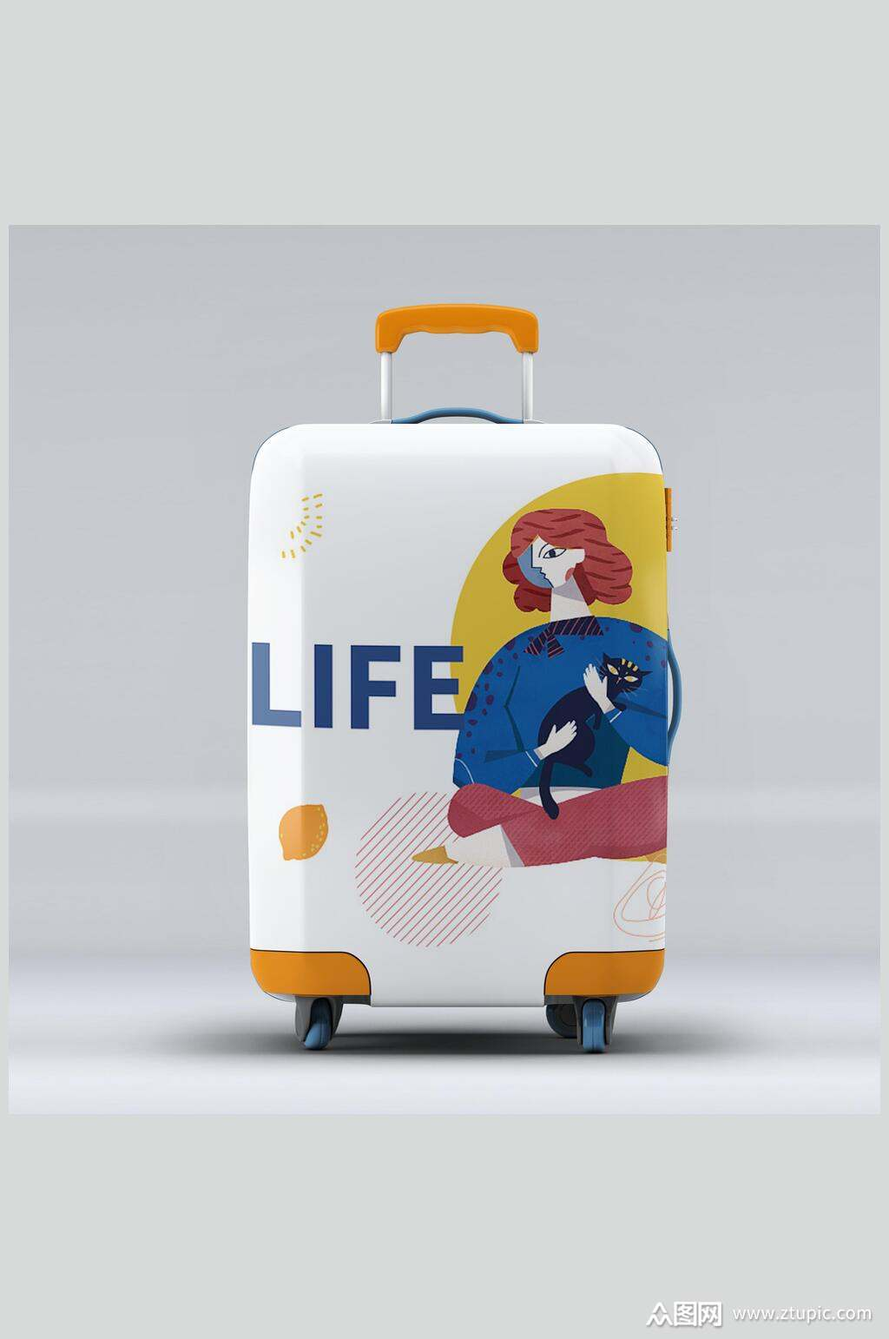box: (248, 424, 668, 1004)
handle: (368, 408, 543, 425), (668, 612, 682, 764)
wheel: (294, 999, 344, 1052), (576, 999, 618, 1055), (544, 1003, 579, 1039)
